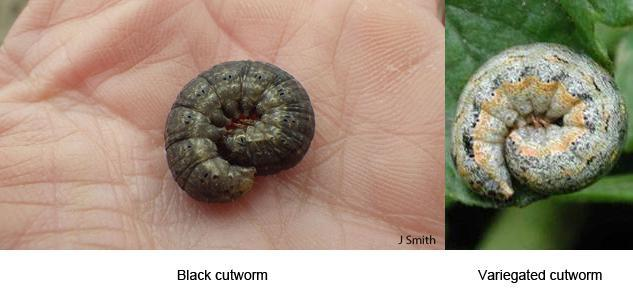caterpillars: (443, 28, 633, 222), (143, 45, 345, 220)
